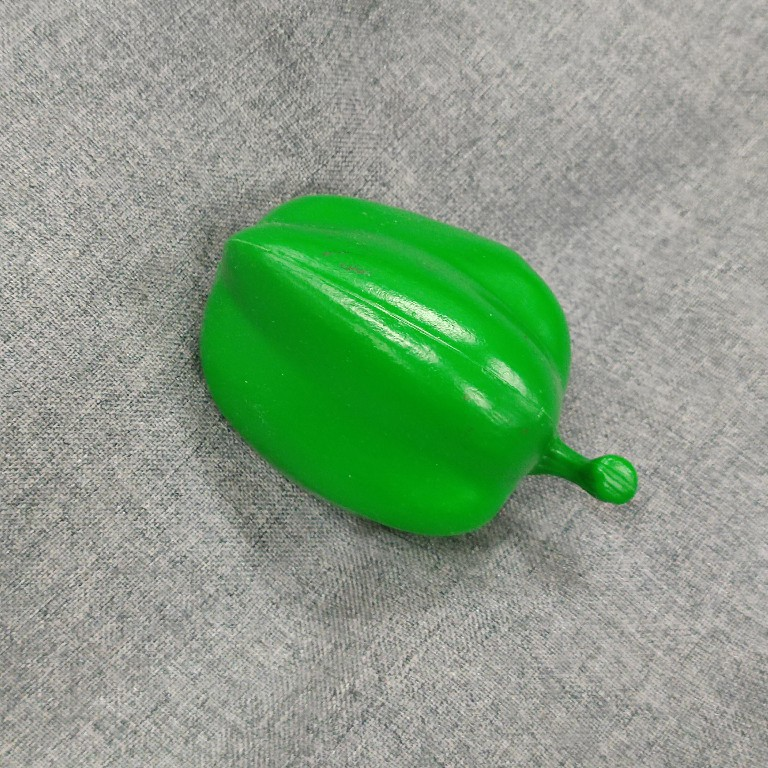fruit_pepper: (194, 189, 642, 544)
